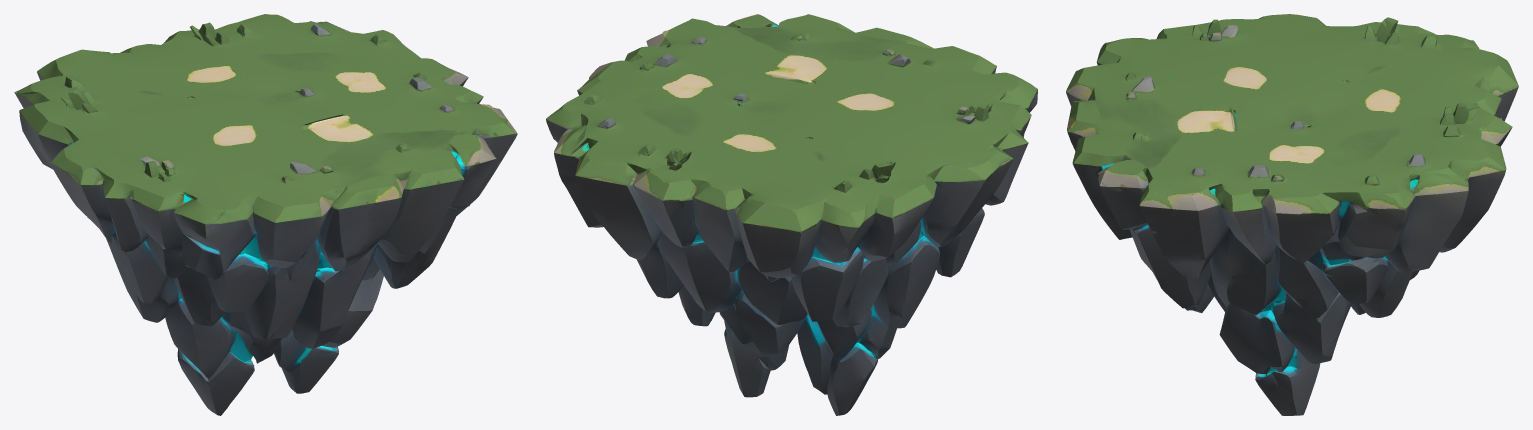
3 renders of one model, left to right at view 1: azimuth 30°, elevation 25°; view 2: azimuth 150°, elevation 25°; view 3: azimuth 270°, elevation 25°, orthographic.
Visible parts, largest first — view 1: Mesh; view 2: Mesh; view 3: Mesh.
Boxes of the visible parts, x1,y1,x2,y2 form: Mesh: [14, 14, 517, 415]; Mesh: [546, 14, 1037, 415]; Mesh: [1066, 14, 1518, 415].
Bounding box in the file's own units: 1.9 × 1.4 × 1.86.
Materials: 1 (1 with a texture image).
